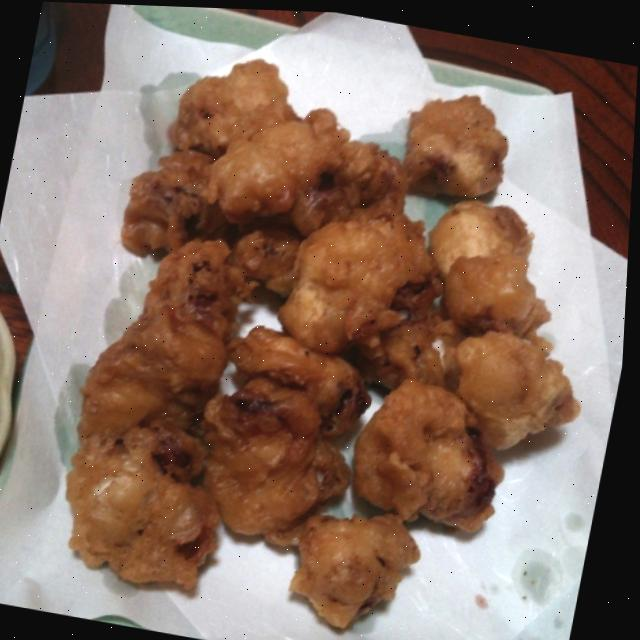鸡肉料理 含炸鸡: (0, 9, 610, 640)
